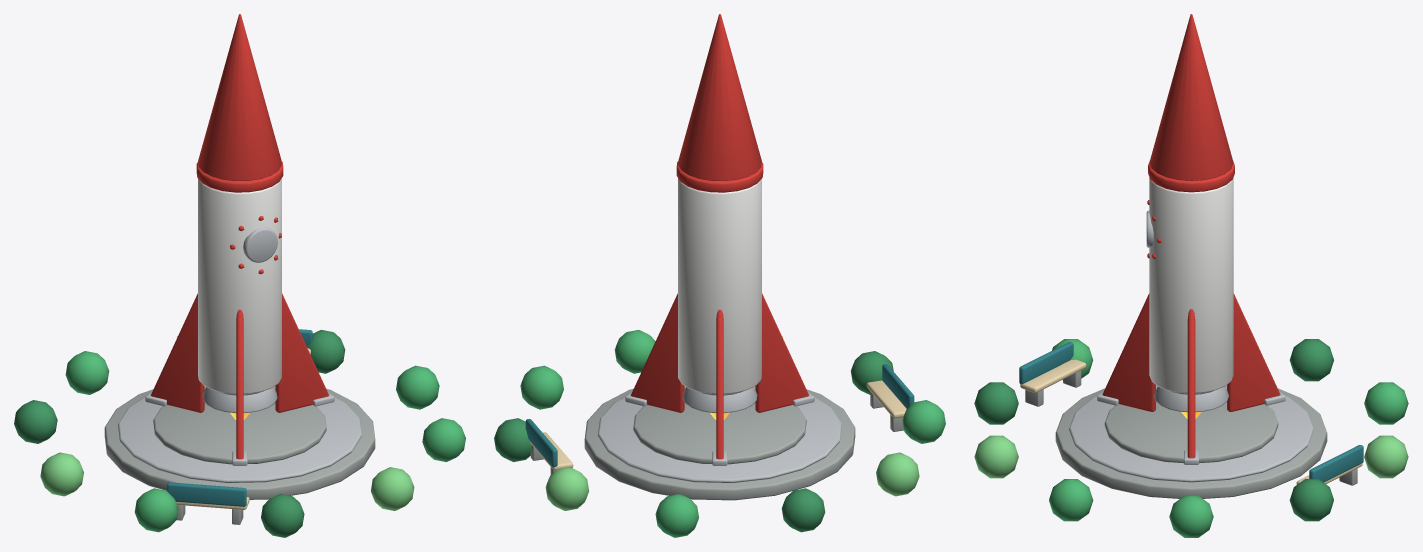
The model's file is launch-monument.glb.
The picture shows the model from 3 angles, left to right: view 1: azimuth 30°, elevation 25°; view 2: azimuth 150°, elevation 25°; view 3: azimuth 270°, elevation 25°; orthographic projection.
Parts seen in each view (by area): view 1: main body, nose cone, pad inner deck, pad trim ring, launch pad, stabiliser fin, stabiliser fin.001, bench back.001, island hedge.004, island hedge.005, island hedge.006, island hedge.007 (+9 smaller); view 2: main body, nose cone, pad inner deck, pad trim ring, launch pad, stabiliser fin, stabiliser fin.002, island hedge.004, island hedge.005, island hedge.006, island hedge.003, island hedge.002 (+10 smaller); view 3: main body, nose cone, pad inner deck, pad trim ring, launch pad, stabiliser fin.001, stabiliser fin.002, island hedge.002, island hedge.008, island hedge, island hedge.003, island hedge.007 (+10 smaller).
Boxes of the visible parts, x1,y1,x2,y2 form: main body: (198,178,281,394); nose cone: (198,14,281,180); pad inner deck: (153,402,326,464); pad trim ring: (118,386,361,482); launch pad: (104,388,375,499); stabiliser fin: (275,293,329,412); stabiliser fin.001: (150,293,204,412); bench back.001: (167,482,246,506); island hedge.004: (14,400,57,443); island hedge.005: (40,452,83,496); island hedge.006: (134,488,178,532); island hedge.007: (261,494,304,537); main body: (678,178,761,394); nose cone: (678,14,761,180); pad inner deck: (633,402,806,464); pad trim ring: (598,386,841,482); launch pad: (584,388,855,500); stabiliser fin: (630,293,684,412); stabiliser fin.002: (755,293,809,412); island hedge.004: (781,488,825,532); island hedge.005: (876,452,919,496); island hedge.006: (902,400,945,443); island hedge.003: (655,494,698,537); island hedge.002: (545,467,588,510); main body: (1149,177,1233,393); nose cone: (1149,14,1233,180); pad inner deck: (1104,389,1278,463); pad trim ring: (1069,385,1313,482); launch pad: (1055,388,1327,498); stabiliser fin.001: (1227,293,1280,411); stabiliser fin.002: (1102,293,1155,411); island hedge.002: (1364,435,1408,478); island hedge.008: (974,435,1018,478); island hedge: (1169,495,1213,537); island hedge.003: (1364,382,1408,424); island hedge.007: (974,382,1018,424).
Size of the model in its own units: 10.15 by 10.81 by 9.75.
